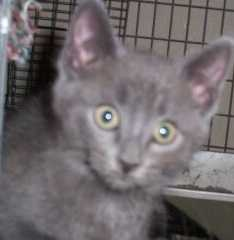Cat: (30, 10, 233, 239)
